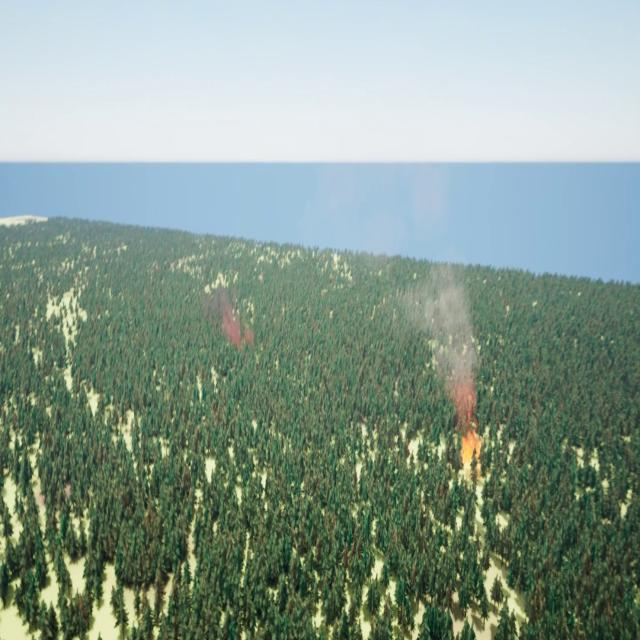fire: (457, 428, 483, 477)
smoke: (399, 268, 480, 425), (216, 298, 260, 354)
